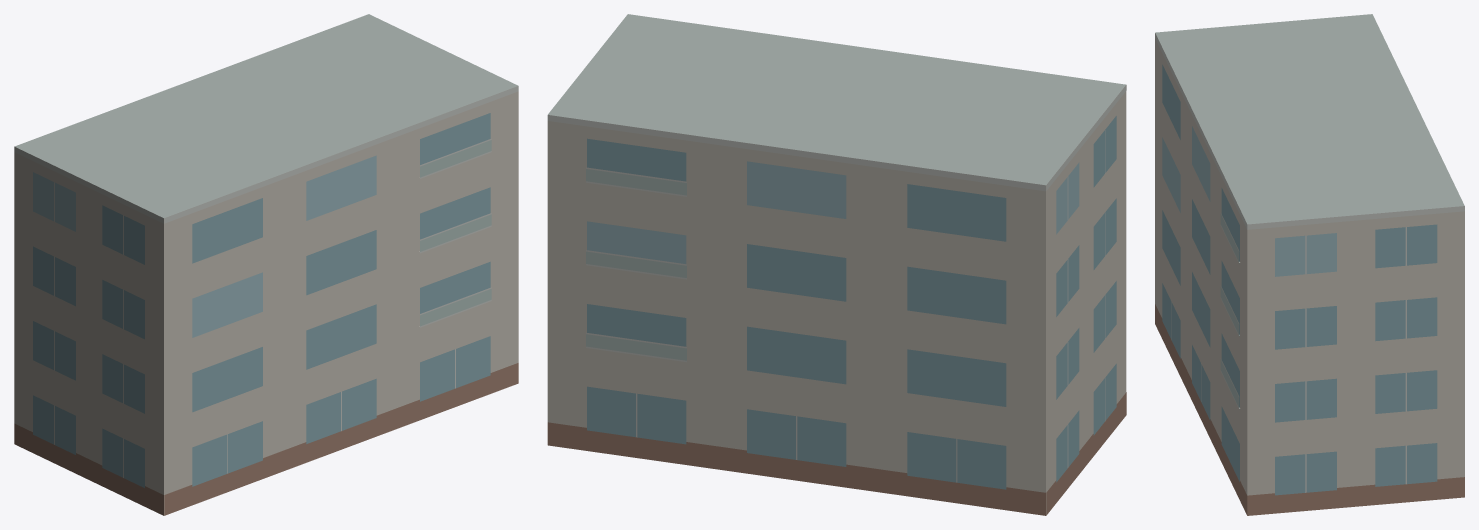
The model's file is survey-upis-32718031.glb.
The picture shows the model from 3 angles, left to right: view 1: azimuth 30°, elevation 25°; view 2: azimuth 150°, elevation 25°; view 3: azimuth 270°, elevation 25°; orthographic projection. The views are drawn at different scales.
Visible parts, largest first — view 1: survey-upis-32718031.tmp; view 2: survey-upis-32718031.tmp; view 3: survey-upis-32718031.tmp.
Part boxes in pixels (x1=…): survey-upis-32718031.tmp: x1=14, y1=14, x2=518, y2=515; survey-upis-32718031.tmp: x1=547, y1=14, x2=1126, y2=515; survey-upis-32718031.tmp: x1=1155, y1=14, x2=1464, y2=515.
Bounding box in the file's own units: 20.46 × 13.2 × 12.73.
